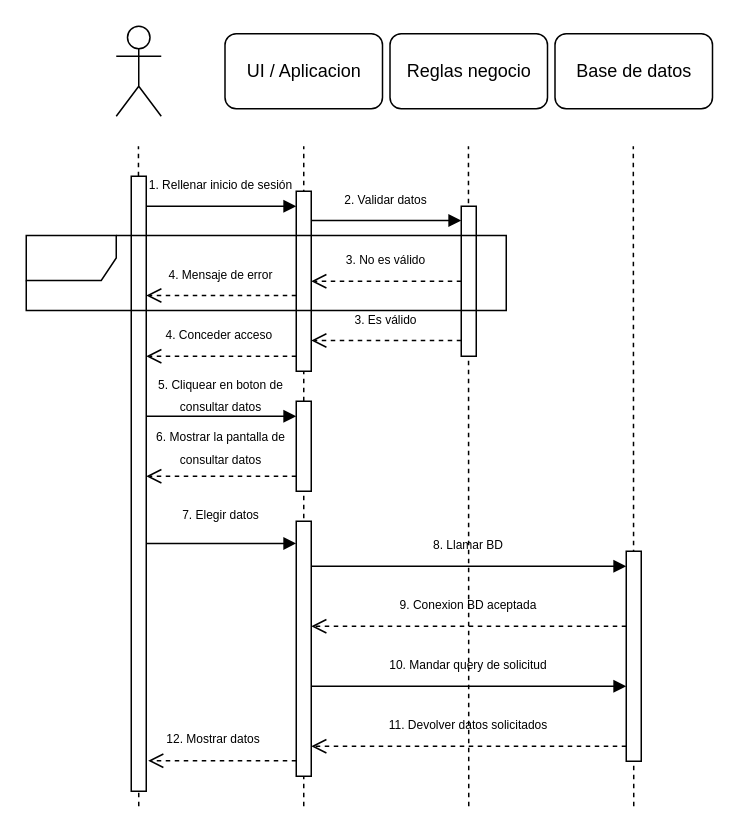
Some shapes in this 740 by 834 pixel diagram are drawn without their labels. Each missing label, with the centre of its shape:
"alt" goes at (265,272).
"Usuario" goes at (138,70).
